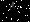person: (8, 1, 18, 16)
